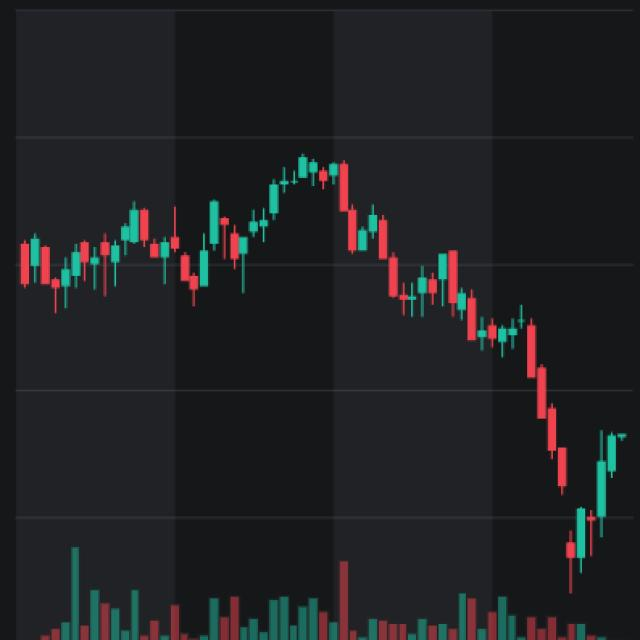Falling-Wedge: (224, 121, 562, 374)
Support-breakout: (233, 148, 578, 508)
